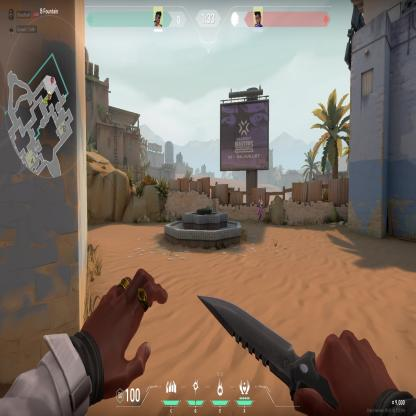enemy: (256, 194, 264, 227)
